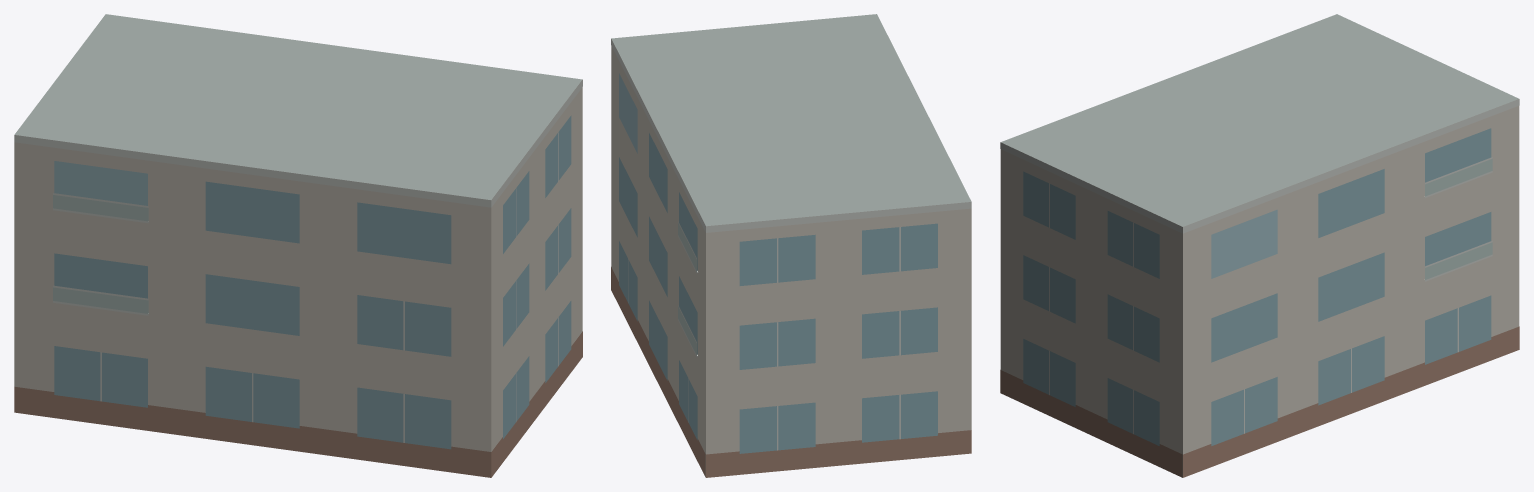
File: survey-upis-32985875.glb
3 renders of one model, left to right at view 1: azimuth 30°, elevation 25°; view 2: azimuth 150°, elevation 25°; view 3: azimuth 270°, elevation 25°, orthographic. The views are drawn at different scales.
Parts seen in each view (by area): view 1: survey-upis-32985875.tmp; view 2: survey-upis-32985875.tmp; view 3: survey-upis-32985875.tmp.
Part boxes in pixels (x1,y1,x2,y2): survey-upis-32985875.tmp: (14,14,582,477); survey-upis-32985875.tmp: (611,14,971,477); survey-upis-32985875.tmp: (1000,14,1519,477).
Size of the model in its own units: 16.67 by 9.15 by 17.16.
